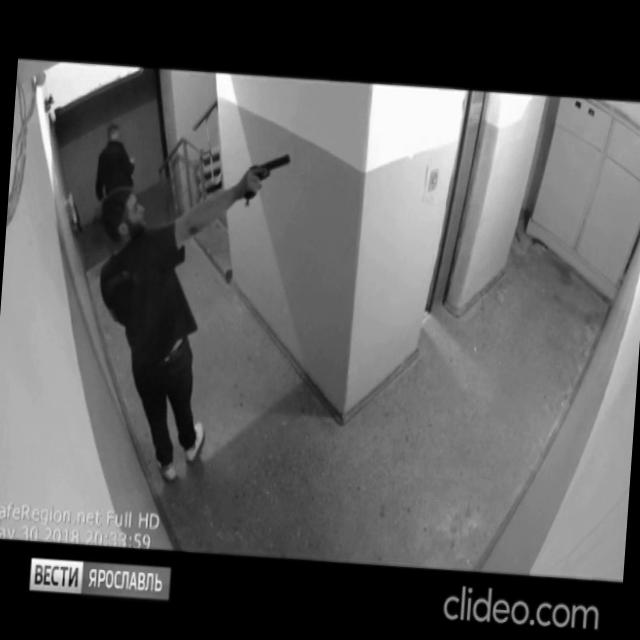gun: (242, 147, 292, 205)
person: (90, 120, 146, 253)
person with a gun: (82, 137, 294, 493)
